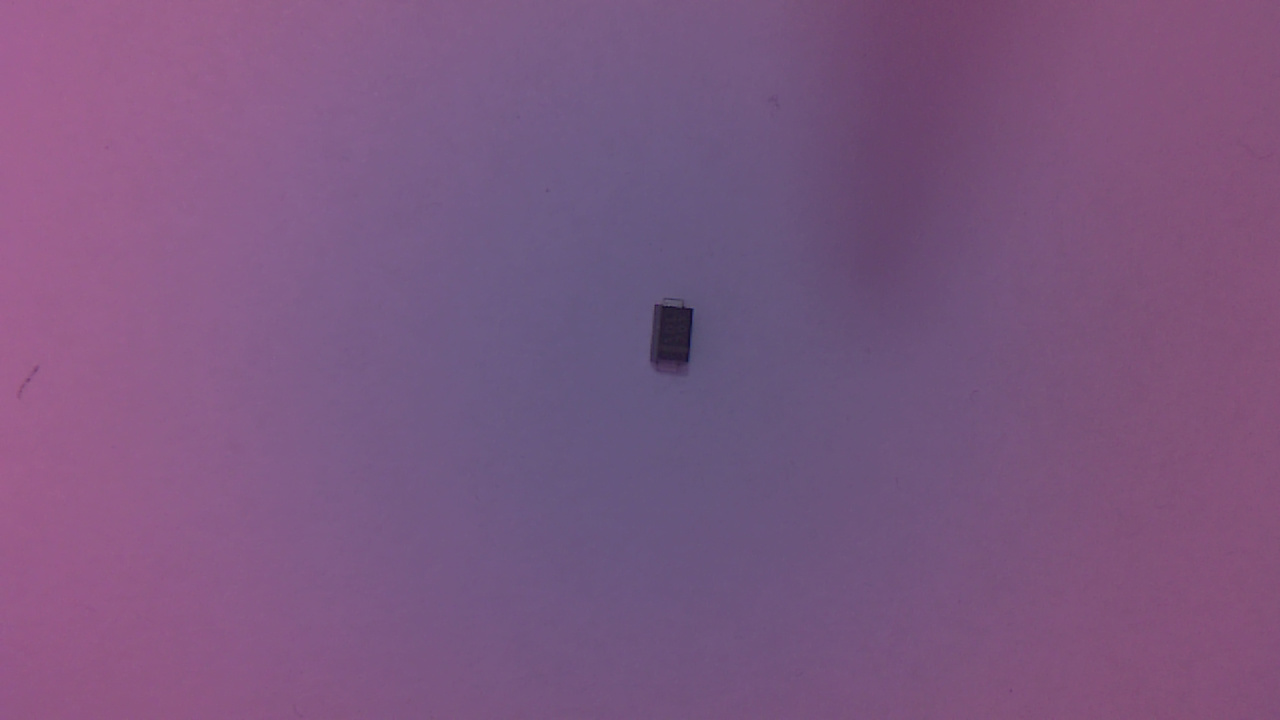Diode: (656, 301, 702, 383)
